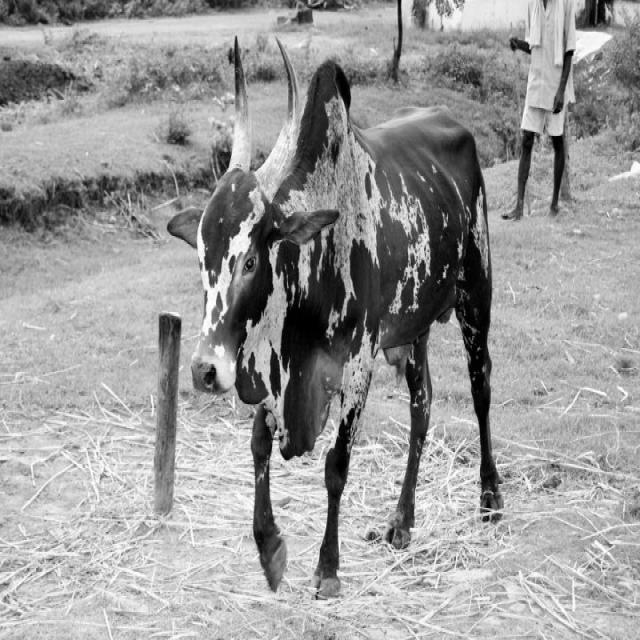Cow: (165, 33, 504, 599)
